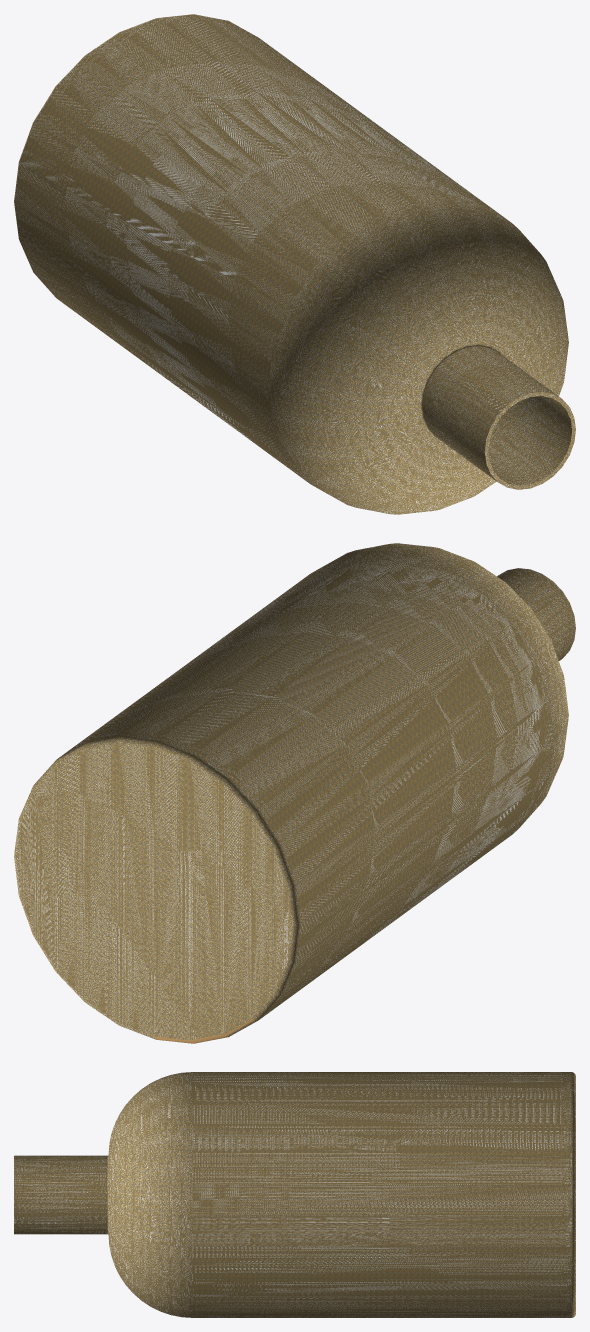
Rendered from model_align.obj.
The picture shows the model from 3 angles, top to bottom: view 1: azimuth 30°, elevation 25°; view 2: azimuth 150°, elevation 25°; view 3: azimuth 270°, elevation 25°; orthographic projection. The views are drawn at different scales.
Parts seen in each view (by area): view 1: mesh1_mesh1-geometry; view 2: mesh1_mesh1-geometry; view 3: mesh1_mesh1-geometry.
Boxes of the visible parts, x1,y1,x2,y2 form: mesh1_mesh1-geometry: (14, 14, 575, 514); mesh1_mesh1-geometry: (14, 543, 575, 1043); mesh1_mesh1-geometry: (14, 1072, 575, 1317).
Size of the model in its own units: 0.0591 by 0.0591 by 0.1347.
